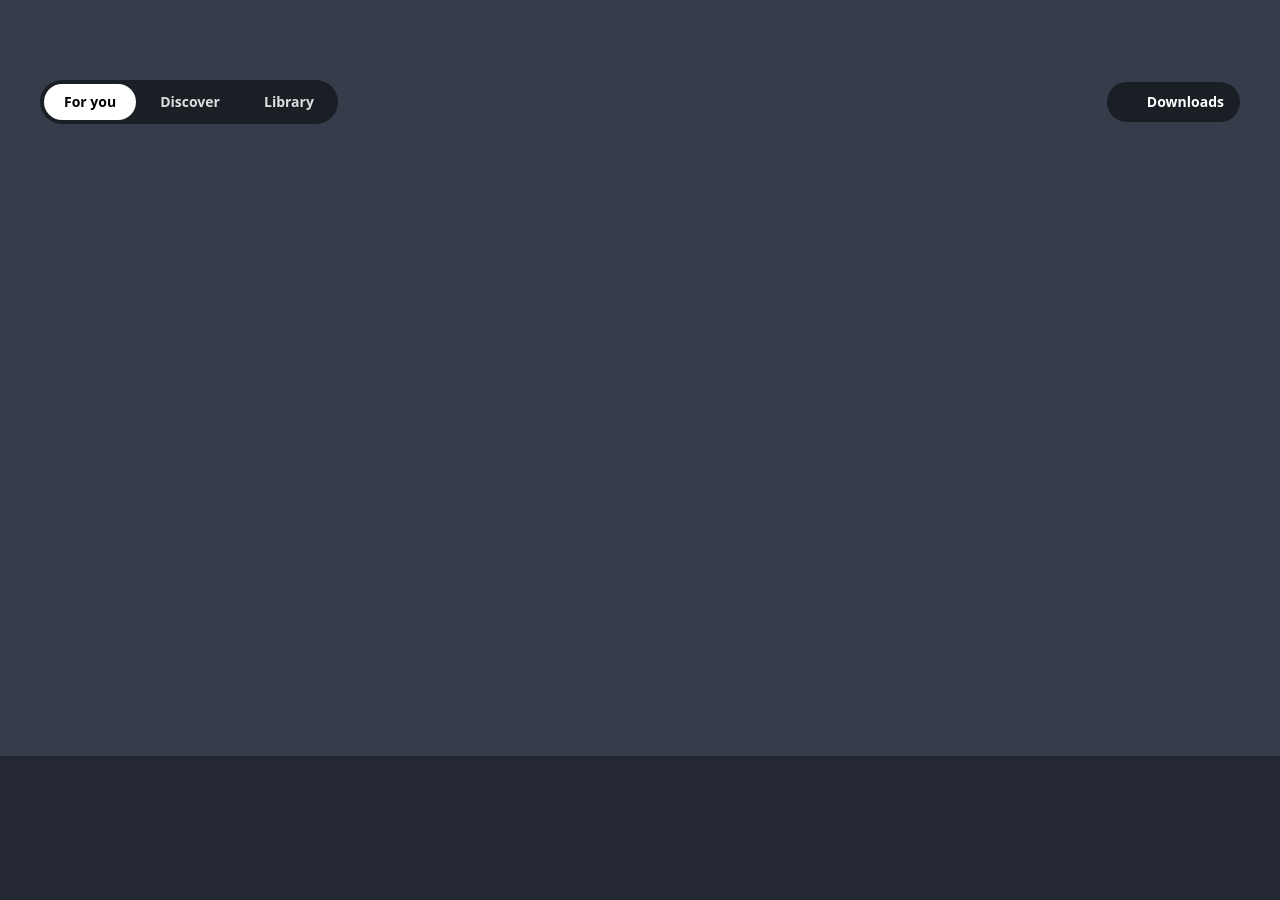
it: SFW Home › says so when Cinemeta is switched off, instead of an empty page
Click the tab "Discover" at x=190, y=102, box [140,84,240,120]
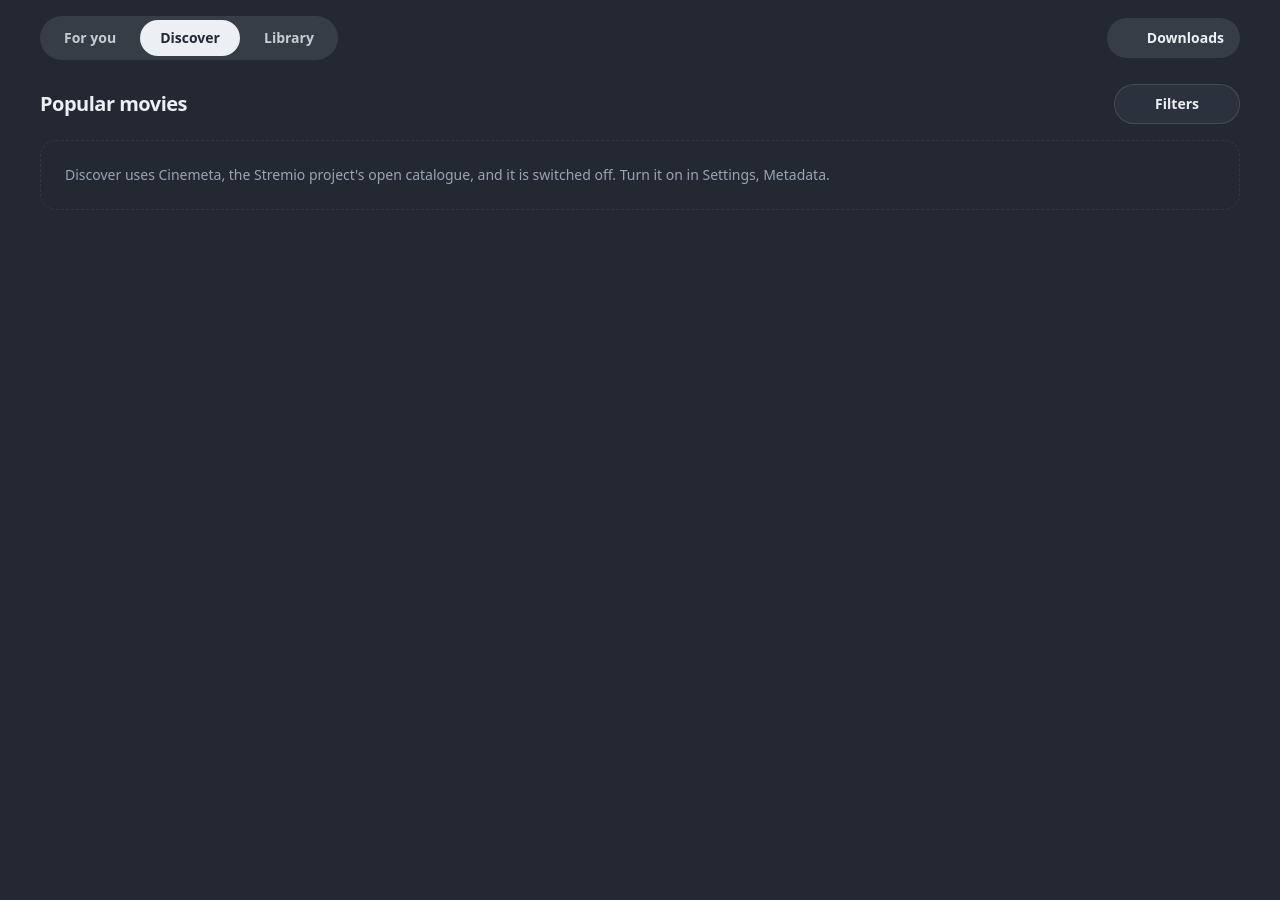
expect the text "it is switched off" is shown: met, box [65,165,830,184]
